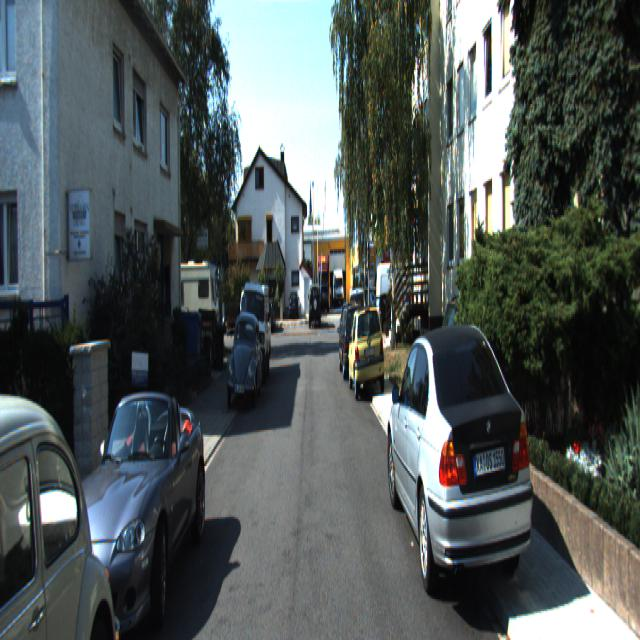Car: (385, 316, 546, 626), (36, 377, 210, 638), (0, 363, 135, 639), (438, 282, 554, 399), (148, 260, 228, 360), (224, 308, 265, 404), (347, 306, 385, 401), (238, 276, 272, 382), (376, 256, 428, 323), (338, 304, 370, 382), (308, 282, 321, 327)
